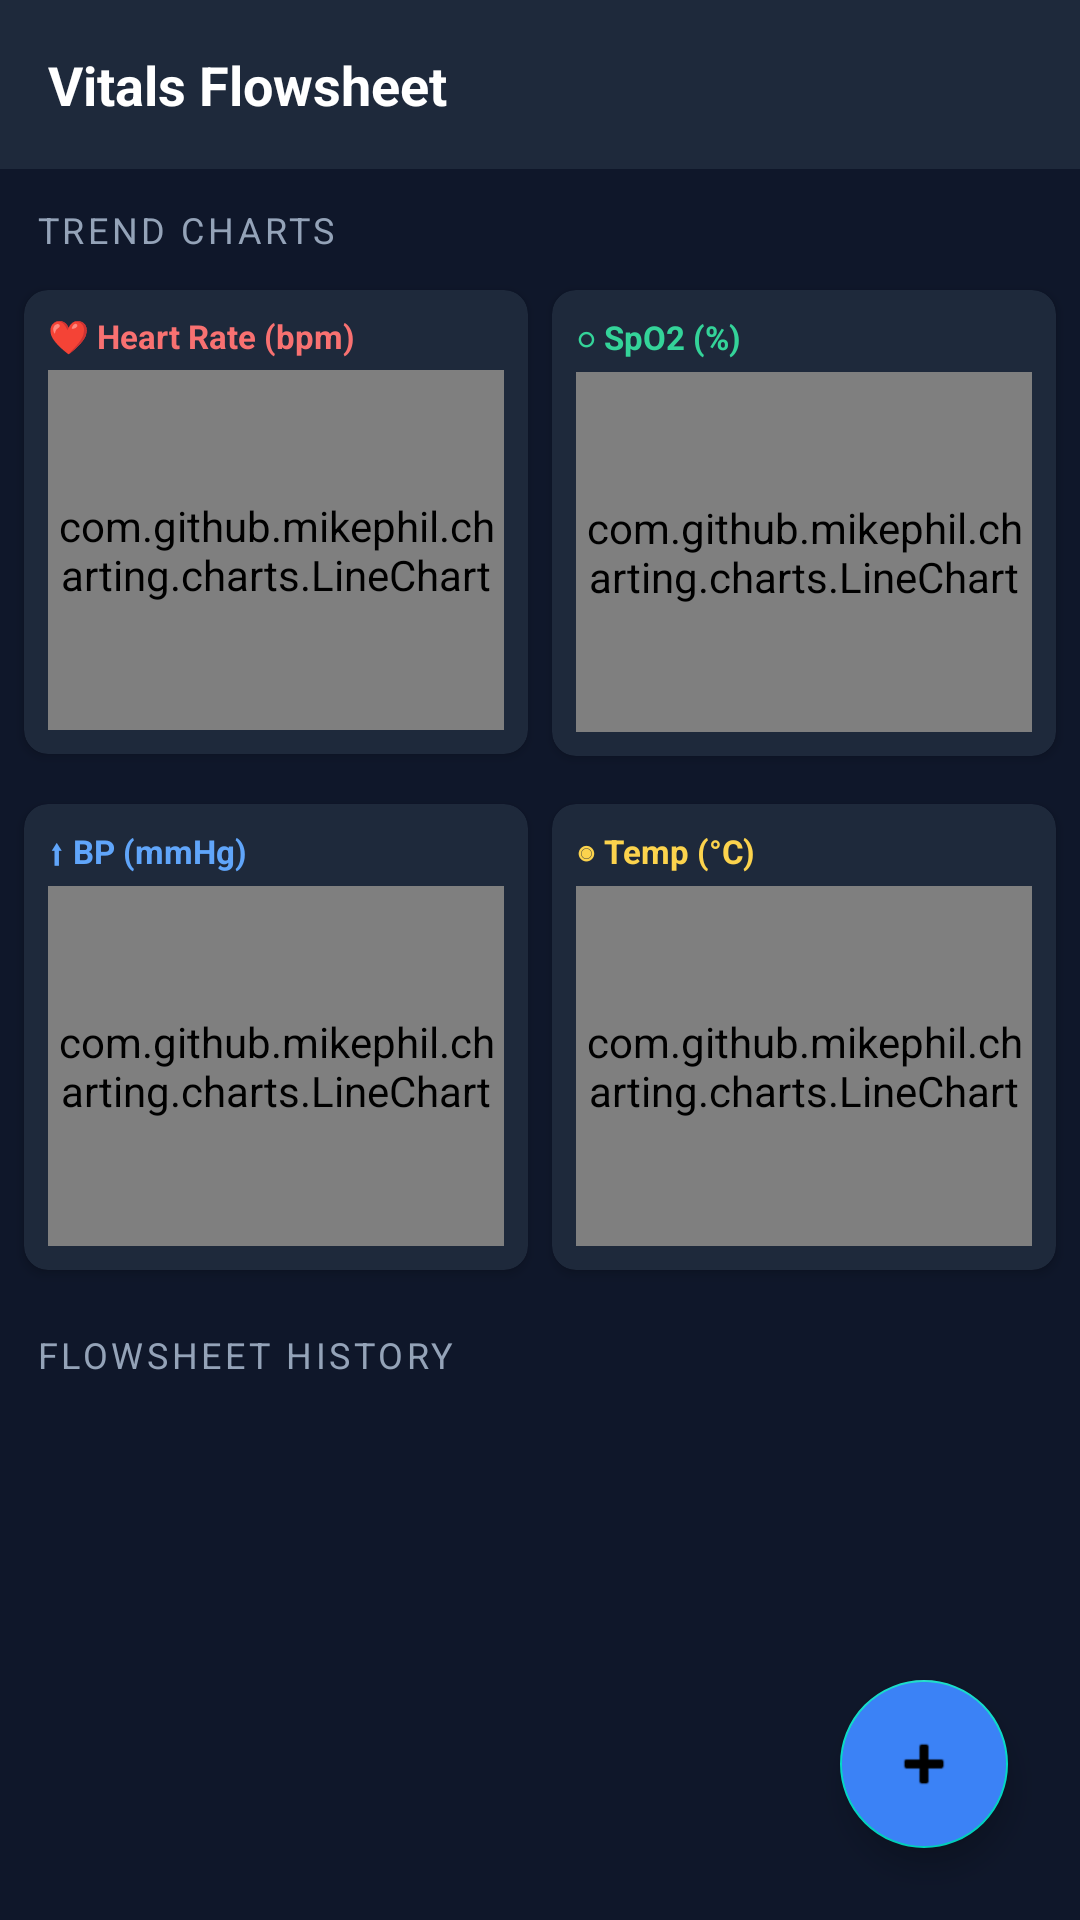

Screen size 1080w x 1920h. Icon name, then its center in pixels as point (x, y):
Add Vitals: point (924, 1764)
